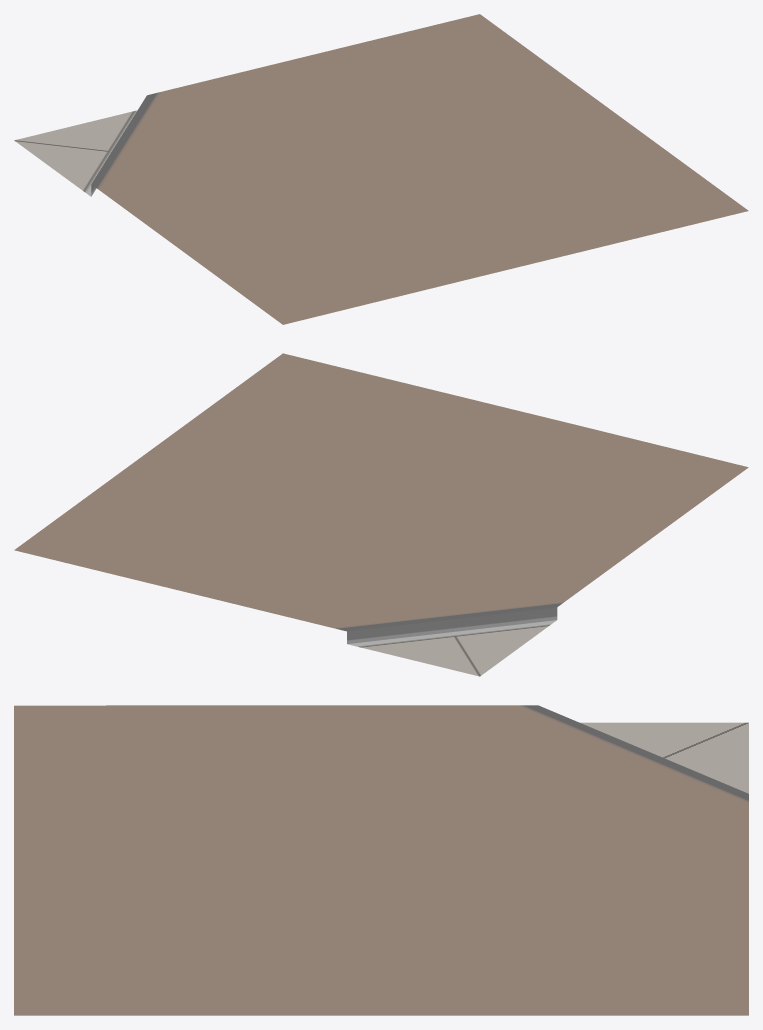
The model's file is island_45_corner_mesh.fbx.
The picture shows the model from 3 angles, top to bottom: view 1: azimuth 30°, elevation 25°; view 2: azimuth 150°, elevation 25°; view 3: azimuth 270°, elevation 25°; orthographic projection. The views are drawn at different scales.
Parts seen in each view (by area): view 1: corner_mesh_45; view 2: corner_mesh_45; view 3: corner_mesh_45.
Part boxes in pixels (bbox=[...]): corner_mesh_45: bbox=[14, 14, 748, 324]; corner_mesh_45: bbox=[14, 353, 748, 676]; corner_mesh_45: bbox=[14, 705, 748, 1015].
Size of the model in its own units: 10 by 0.26 by 10.
